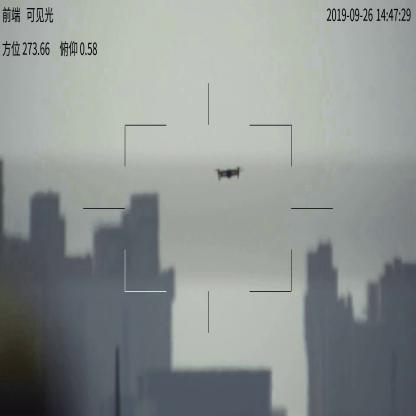uav: (211, 166, 241, 180)
